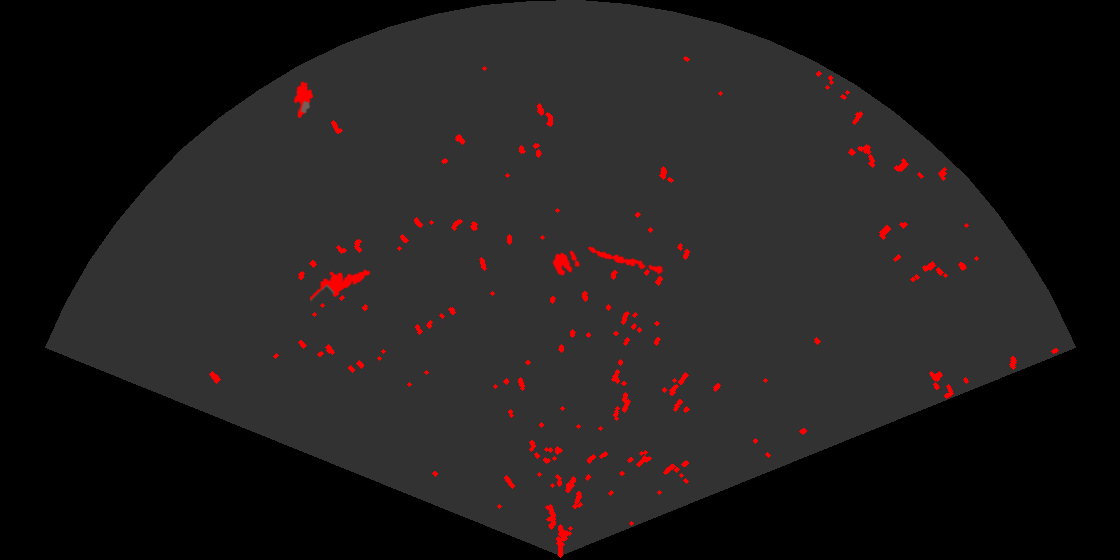AUV: (292, 79, 315, 120)
ball: (551, 249, 581, 278)
chain: (586, 245, 665, 276)
frogman: (310, 268, 372, 302)
